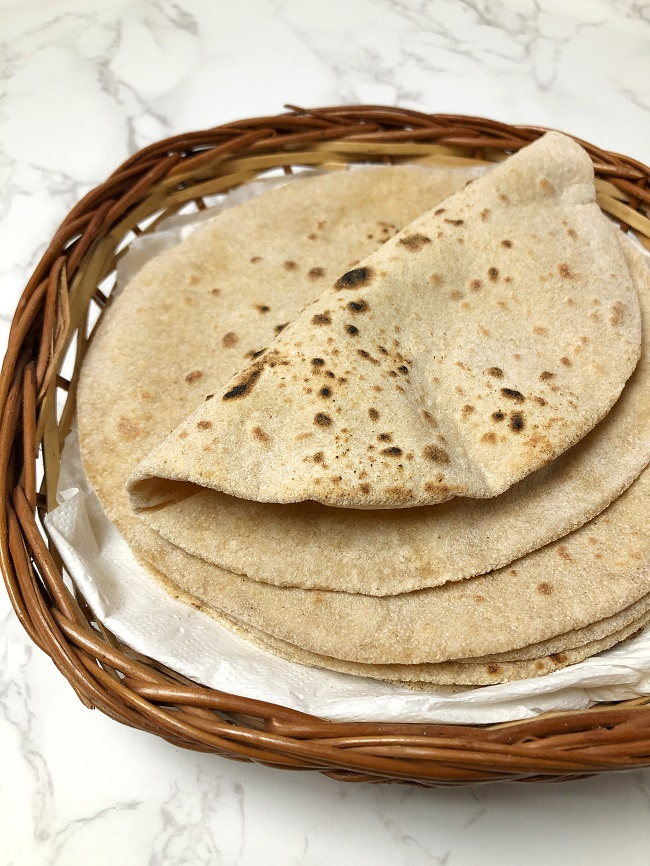Farata: (69, 98, 641, 672)
